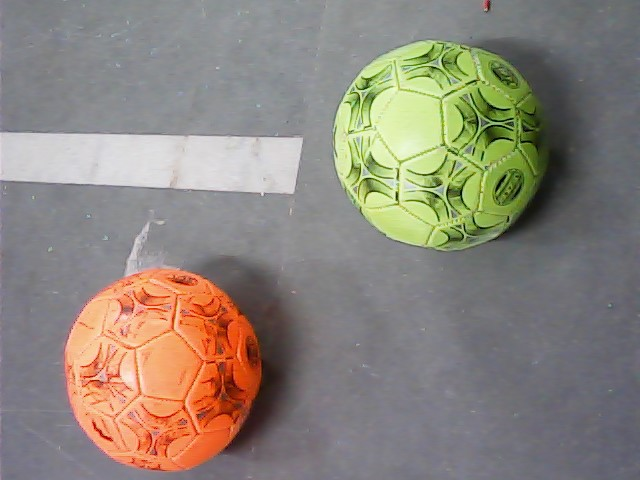Green_ball: (325, 33, 560, 253)
Orange_ball: (59, 268, 273, 474)
